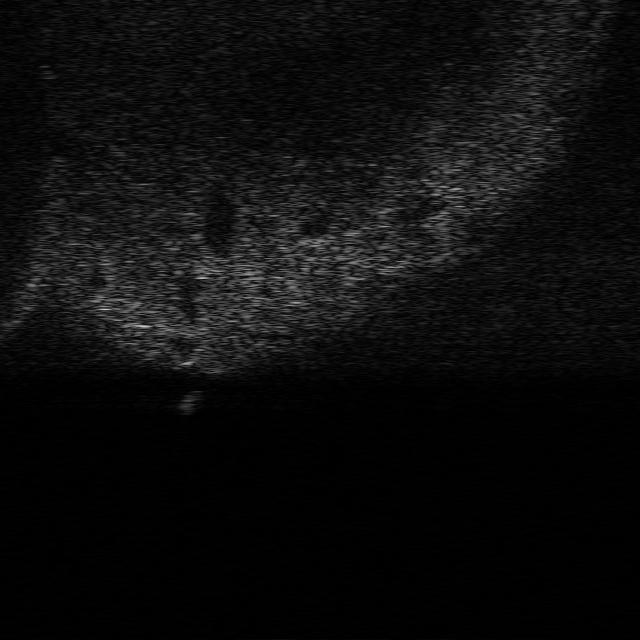cylinder: (177, 388, 205, 416)
